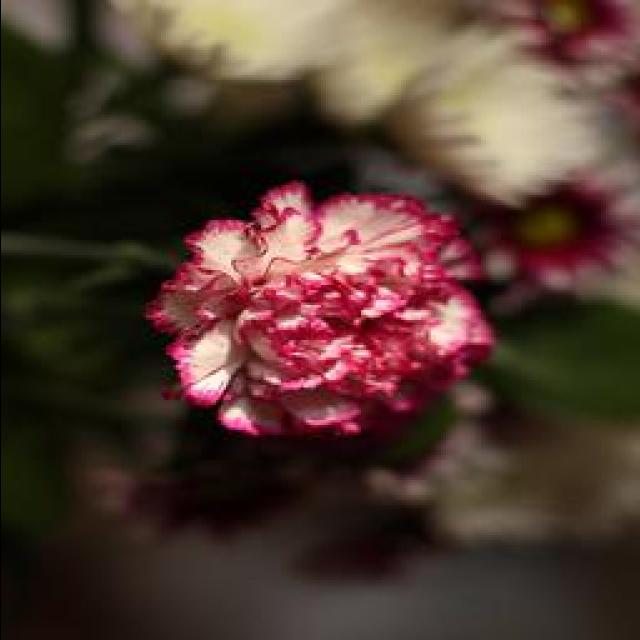carnation: (143, 175, 505, 473)
